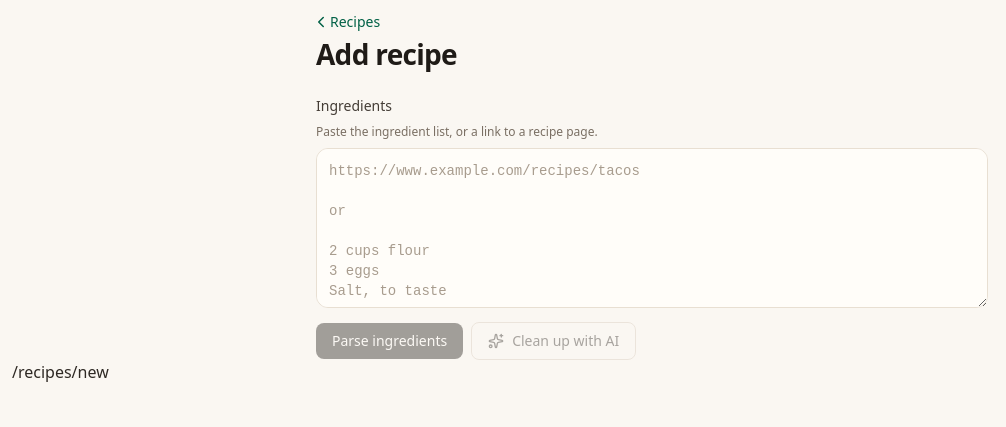
Test: RecipeEditorScreen: AI › shows the AI error and keeps the text
Step 1. Type "messy" into the text box labelled "Ingredients" → (652, 228), box [316, 148, 988, 308]
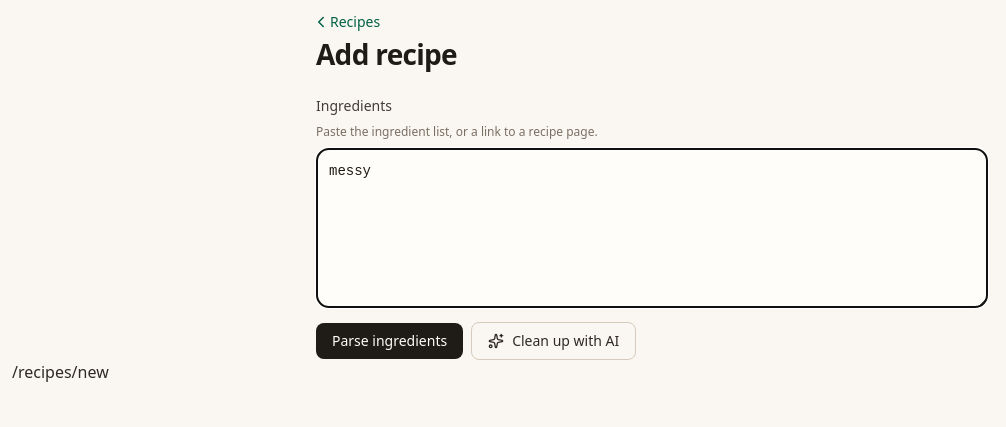
Expected: the button "Clean up with AI" is enabled
Step 2. Click the button "Clean up with AI" → (554, 341), box [471, 322, 636, 360]
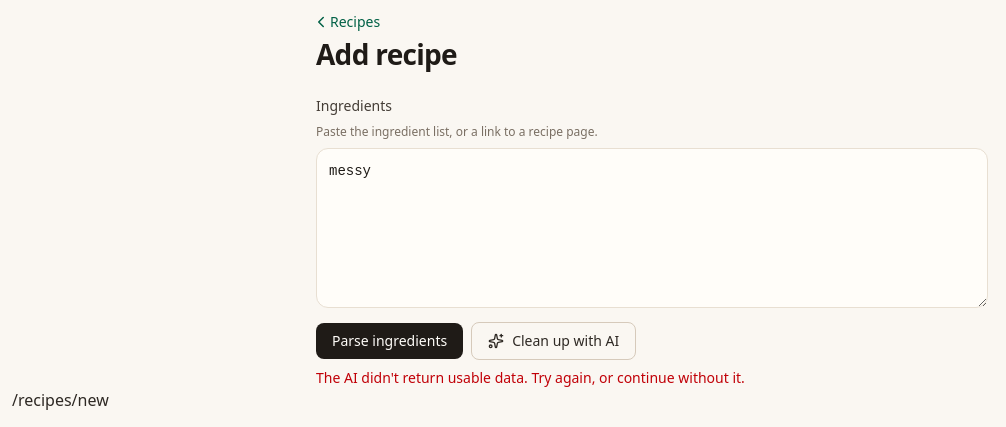
Expected: the message shows "The AI didn't return usable data.", [316, 368, 745, 387]
